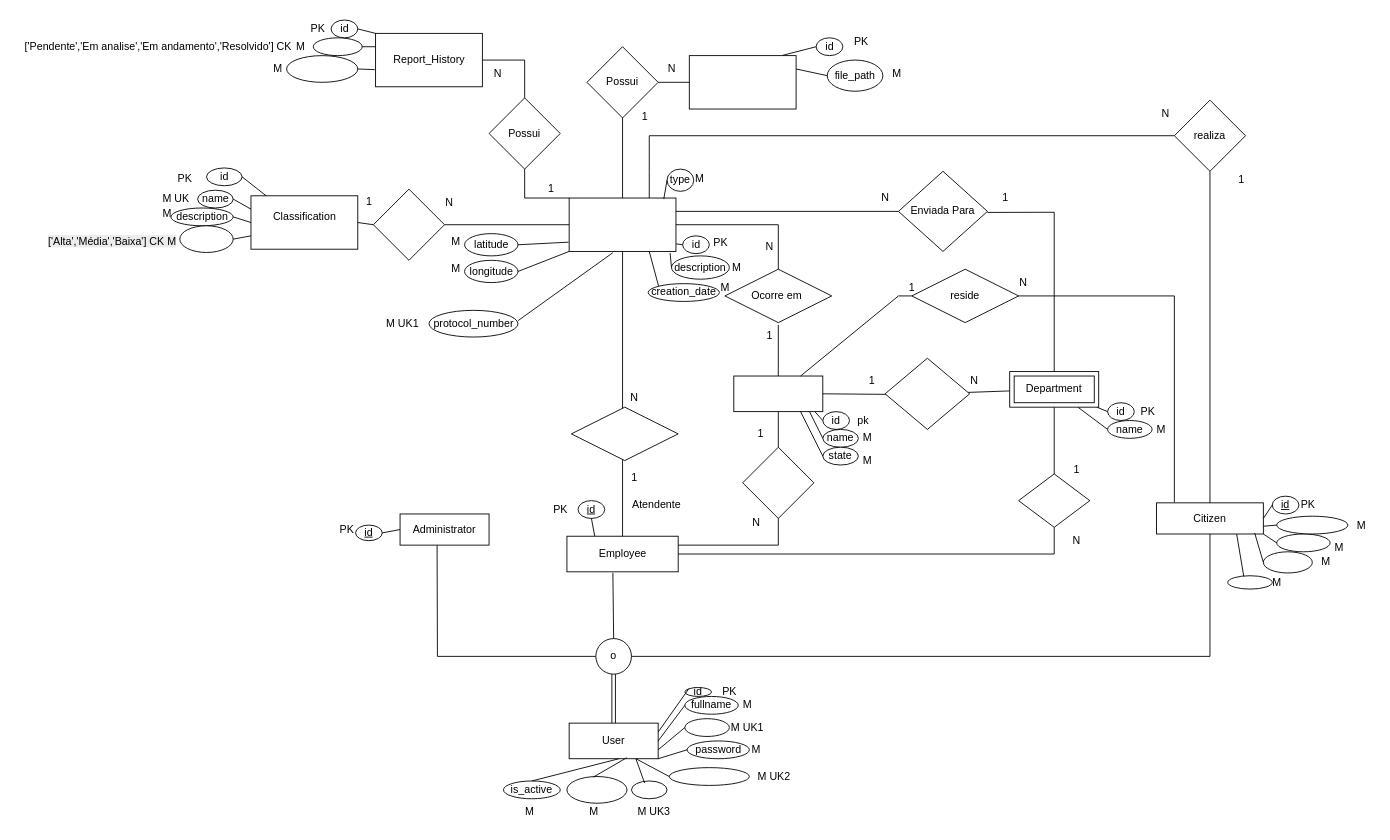
This 1390x840 diagram has some shape labels left out. The shapes that lost their labels are listed below. From the top down, each one's centre as x and y in pixels, then its label:
(337,46): status
(322,68): change_date
(742,82): Media
(206,238): priority
(408,224): Classifica
(622,224): Report
(778,393): City
(927,393): Localizada em
(624,433): Atendida
(778,482): é de
(1054,500): Trabalha em
(1303,542): number
(1312,524): neighborhood
(1249,582): CEP
(1287,562): address
(706,727): email
(596,789): created_at
(649,789): cpf
(708,776): phone_number
